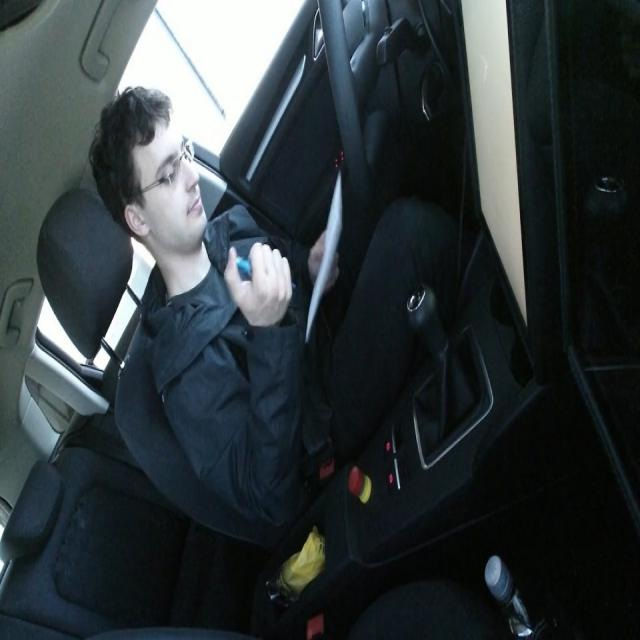pen: (235, 254, 296, 292)
